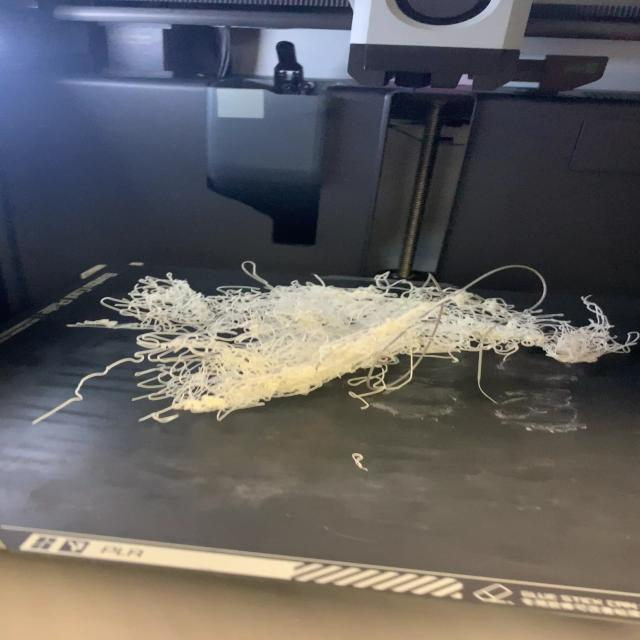spaghetti: (26, 258, 636, 430)
